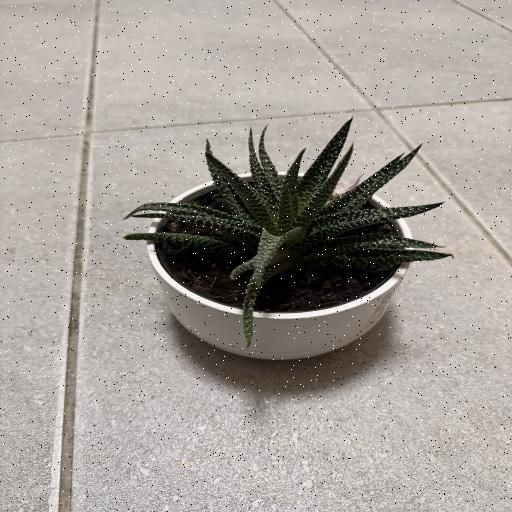Plant Pot: (147, 172, 414, 359)
